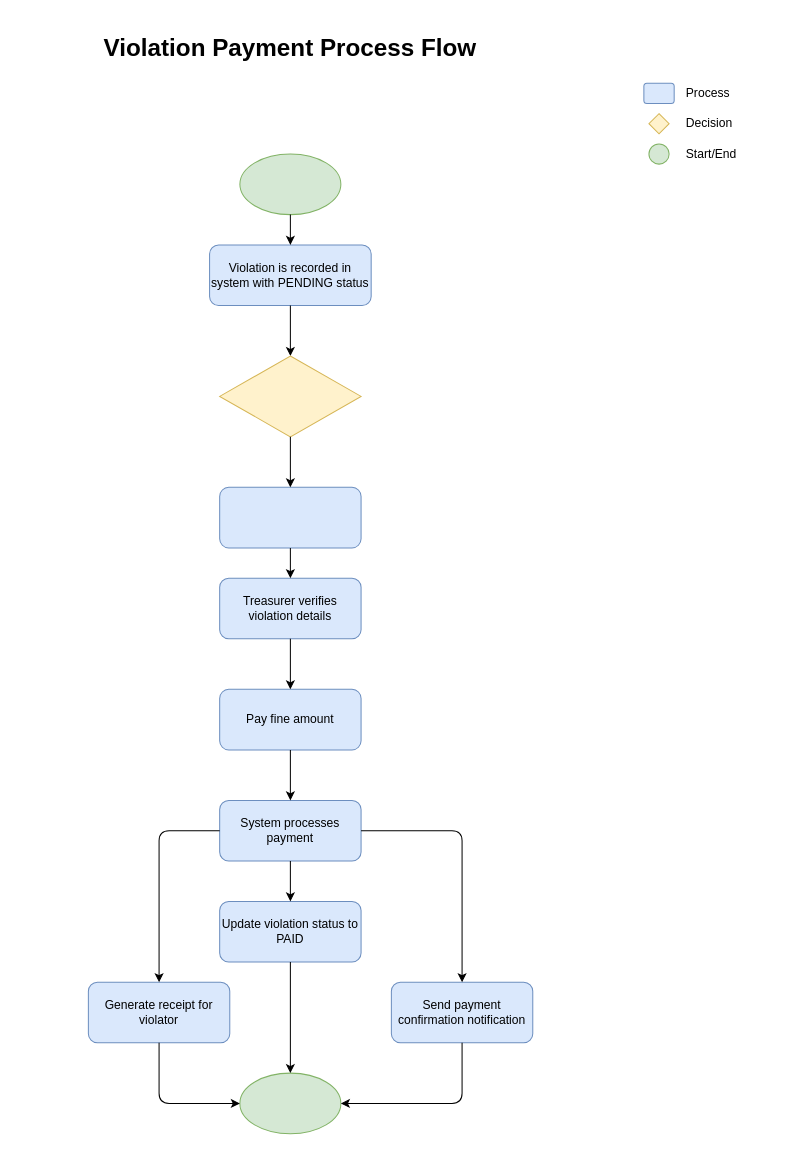
Image size: 802x1151. Some labels were removed from this diagram. Each missing label, with the box of its shape:
End: Payment Complete: (239, 1072, 341, 1134)
How does violator pay?: (219, 355, 361, 437)
Start: (239, 153, 341, 215)
Visit payment center in person: (219, 486, 361, 548)
